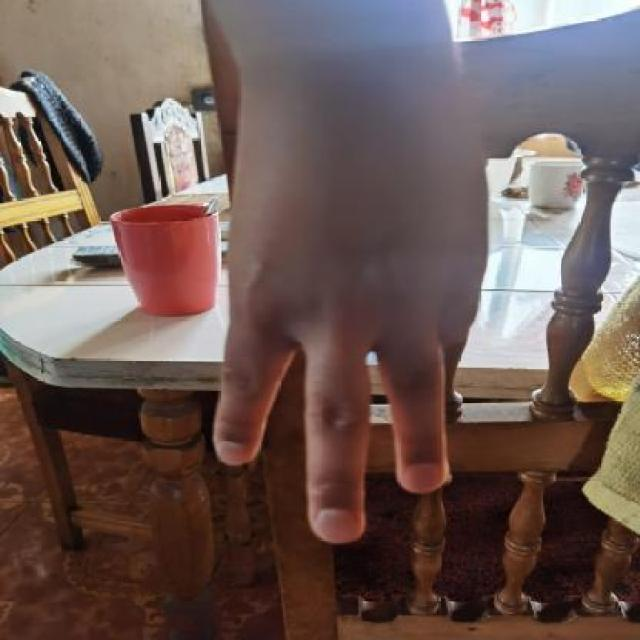M: (144, 1, 536, 557)
